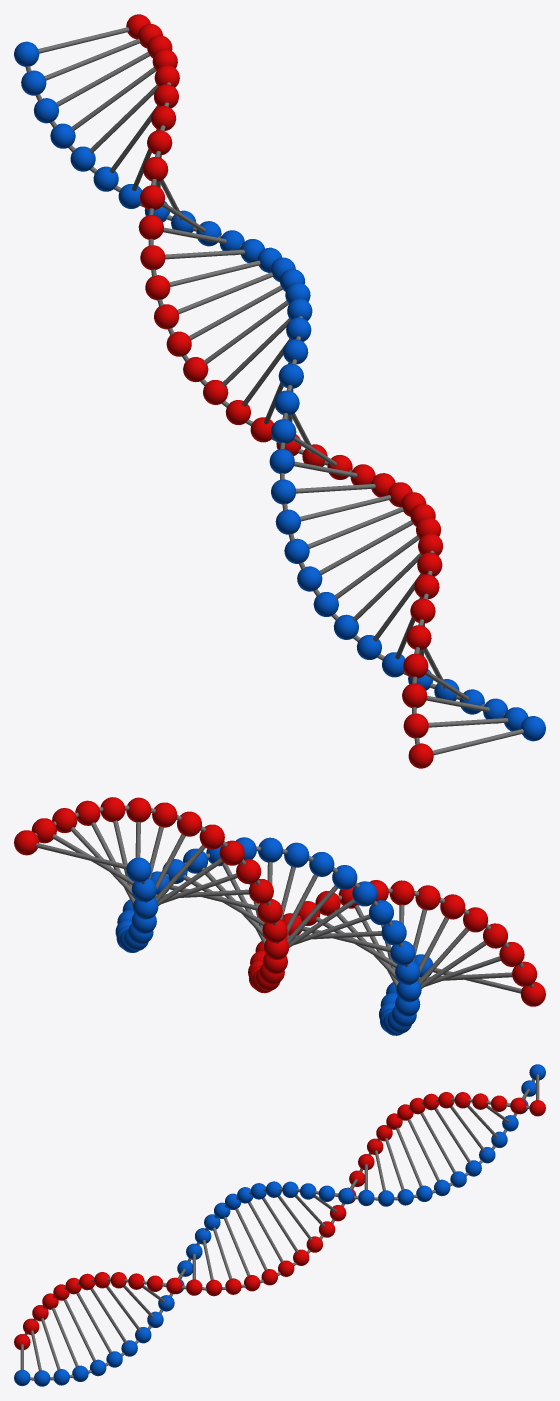
The model's file is ДНК.fbx.
The picture shows the model from 3 angles, top to bottom: view 1: azimuth 30°, elevation 25°; view 2: azimuth 150°, elevation 25°; view 3: azimuth 270°, elevation 25°; orthographic projection. The views are drawn at different scales.
Parts seen in each view (by area): view 1: no part large enough to name; view 2: Объект_Сфера_1, Объект_Цилиндр, Объект_Сфера_7, Объект_Сфера_1_17, Объект_Сфера, Объект_Сфера_8, Объект_Сфера_9, Объект_Сфера_1_20, Объект_Сфера_30, Объект_Сфера_32, Объект_Сфера_1_18, Объект_Сфера_29 (+55 smaller); view 3: no part large enough to name.
Part boxes in pixels (left/top/right/bottom): Объект_Сфера_1: left=126, top=857, right=151, bottom=882; Объект_Цилиндр: left=36, top=843, right=126, bottom=869; Объект_Сфера_7: left=440, top=894, right=465, bottom=919; Объект_Сфера_1_17: left=352, top=881, right=377, bottom=906; Объект_Сфера: left=14, top=830, right=39, bottom=855; Объект_Сфера_8: left=415, top=885, right=440, bottom=910; Объект_Сфера_9: left=389, top=880, right=414, bottom=905; Объект_Сфера_1_20: left=284, top=842, right=309, bottom=867; Объект_Сфера_30: left=199, top=824, right=224, bottom=849; Объект_Сфера_32: left=152, top=802, right=177, bottom=827; Объект_Сфера_1_18: left=332, top=865, right=357, bottom=889; Объект_Сфера_29: left=219, top=840, right=244, bottom=865.
Bounding box in the file's own units: 678 × 2114 × 3536.
